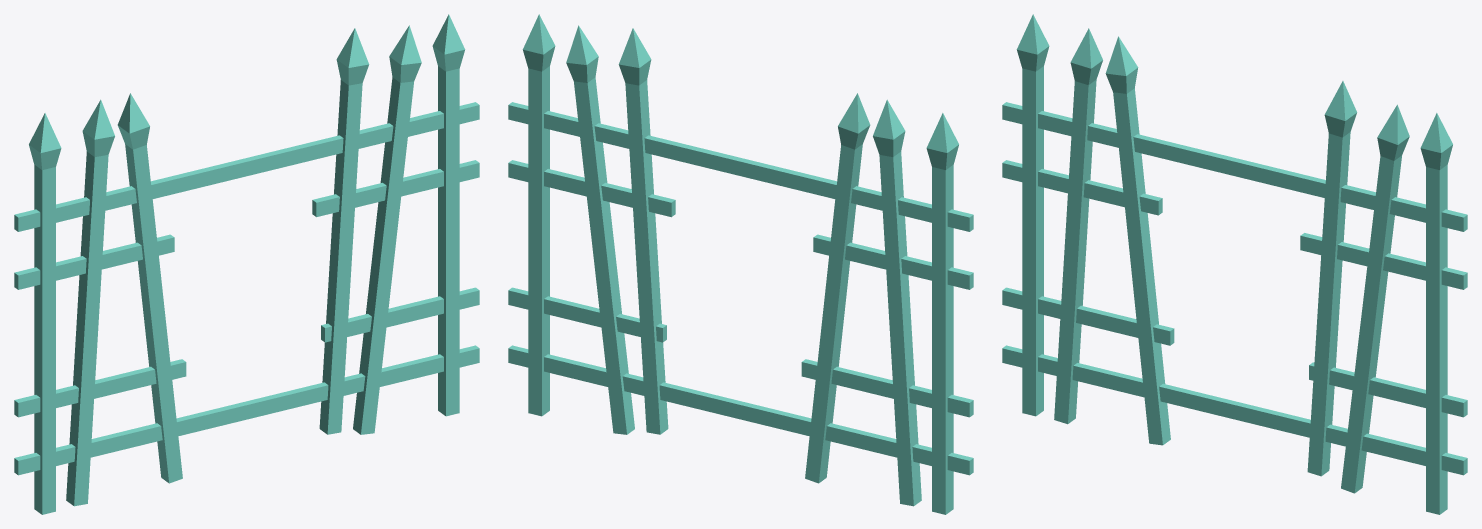
The model's file is ironFenceDamaged.glb.
3 renders of one model, left to right at view 1: azimuth 30°, elevation 25°; view 2: azimuth 150°, elevation 25°; view 3: azimuth 330°, elevation 25°, orthographic.
Visible parts, largest first — view 1: ironFenceDamaged; view 2: ironFenceDamaged; view 3: ironFenceDamaged.
Boxes of the visible parts, box(x1,y1,x2,y2) form: ironFenceDamaged: box(14, 14, 479, 514); ironFenceDamaged: box(508, 14, 973, 514); ironFenceDamaged: box(1002, 14, 1467, 514).
Size of the model in its own units: 1 by 0.8432 by 0.045.
